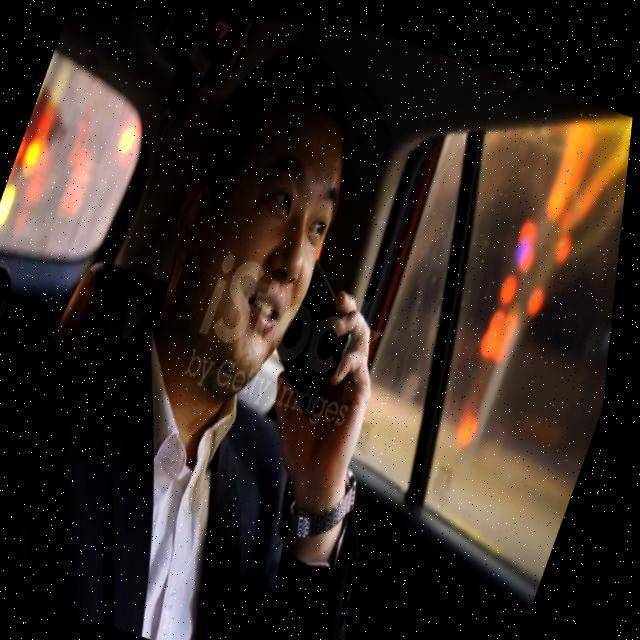PhoneCall: (268, 247, 380, 423)
